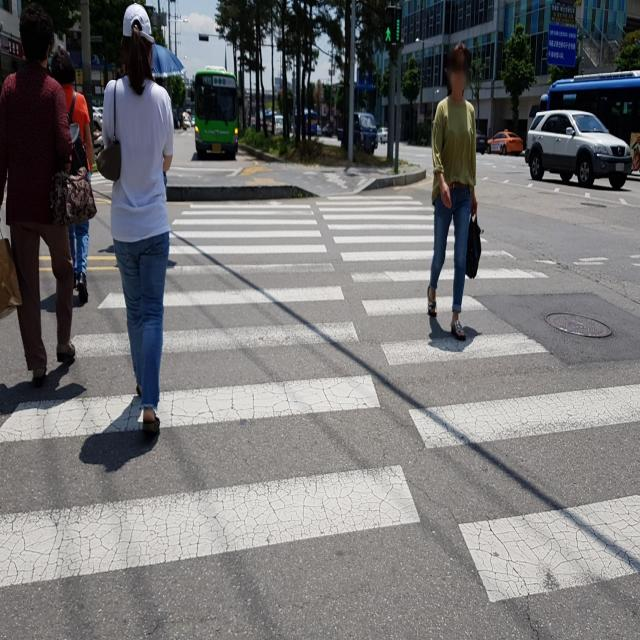초록불: (386, 6, 394, 46)
횡단보도: (0, 191, 640, 605)
